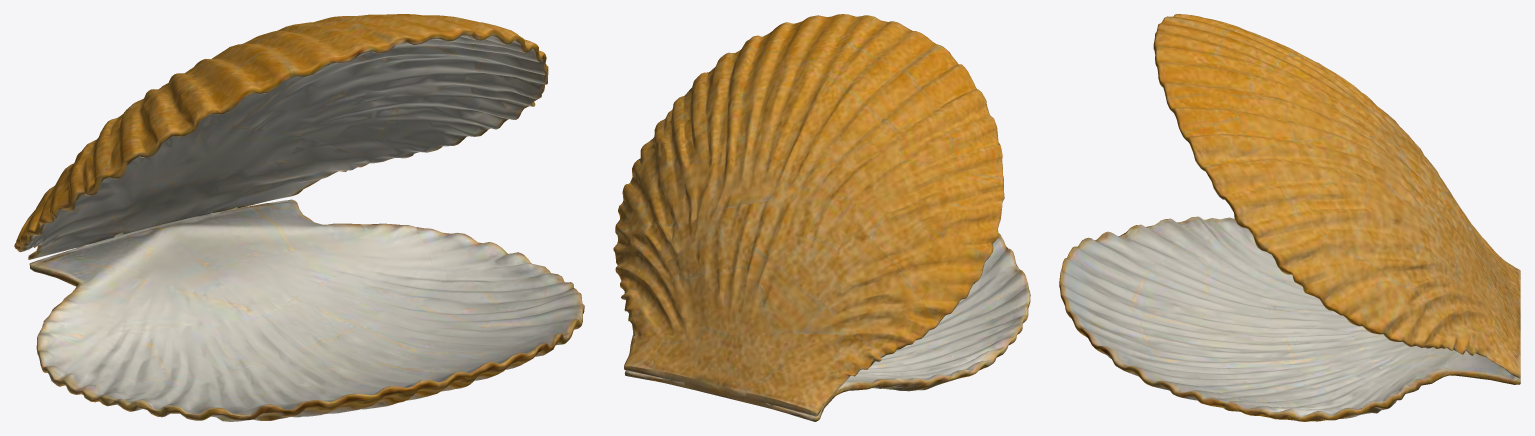
3 views of the same model, side by side, from view 1: azimuth 30°, elevation 25°; view 2: azimuth 150°, elevation 25°; view 3: azimuth 270°, elevation 25° (orthographic). The views are drawn at different scales.
Size of the model in its own units: 1.9 by 1.39 by 1.9.
1 material, 1 textured.
